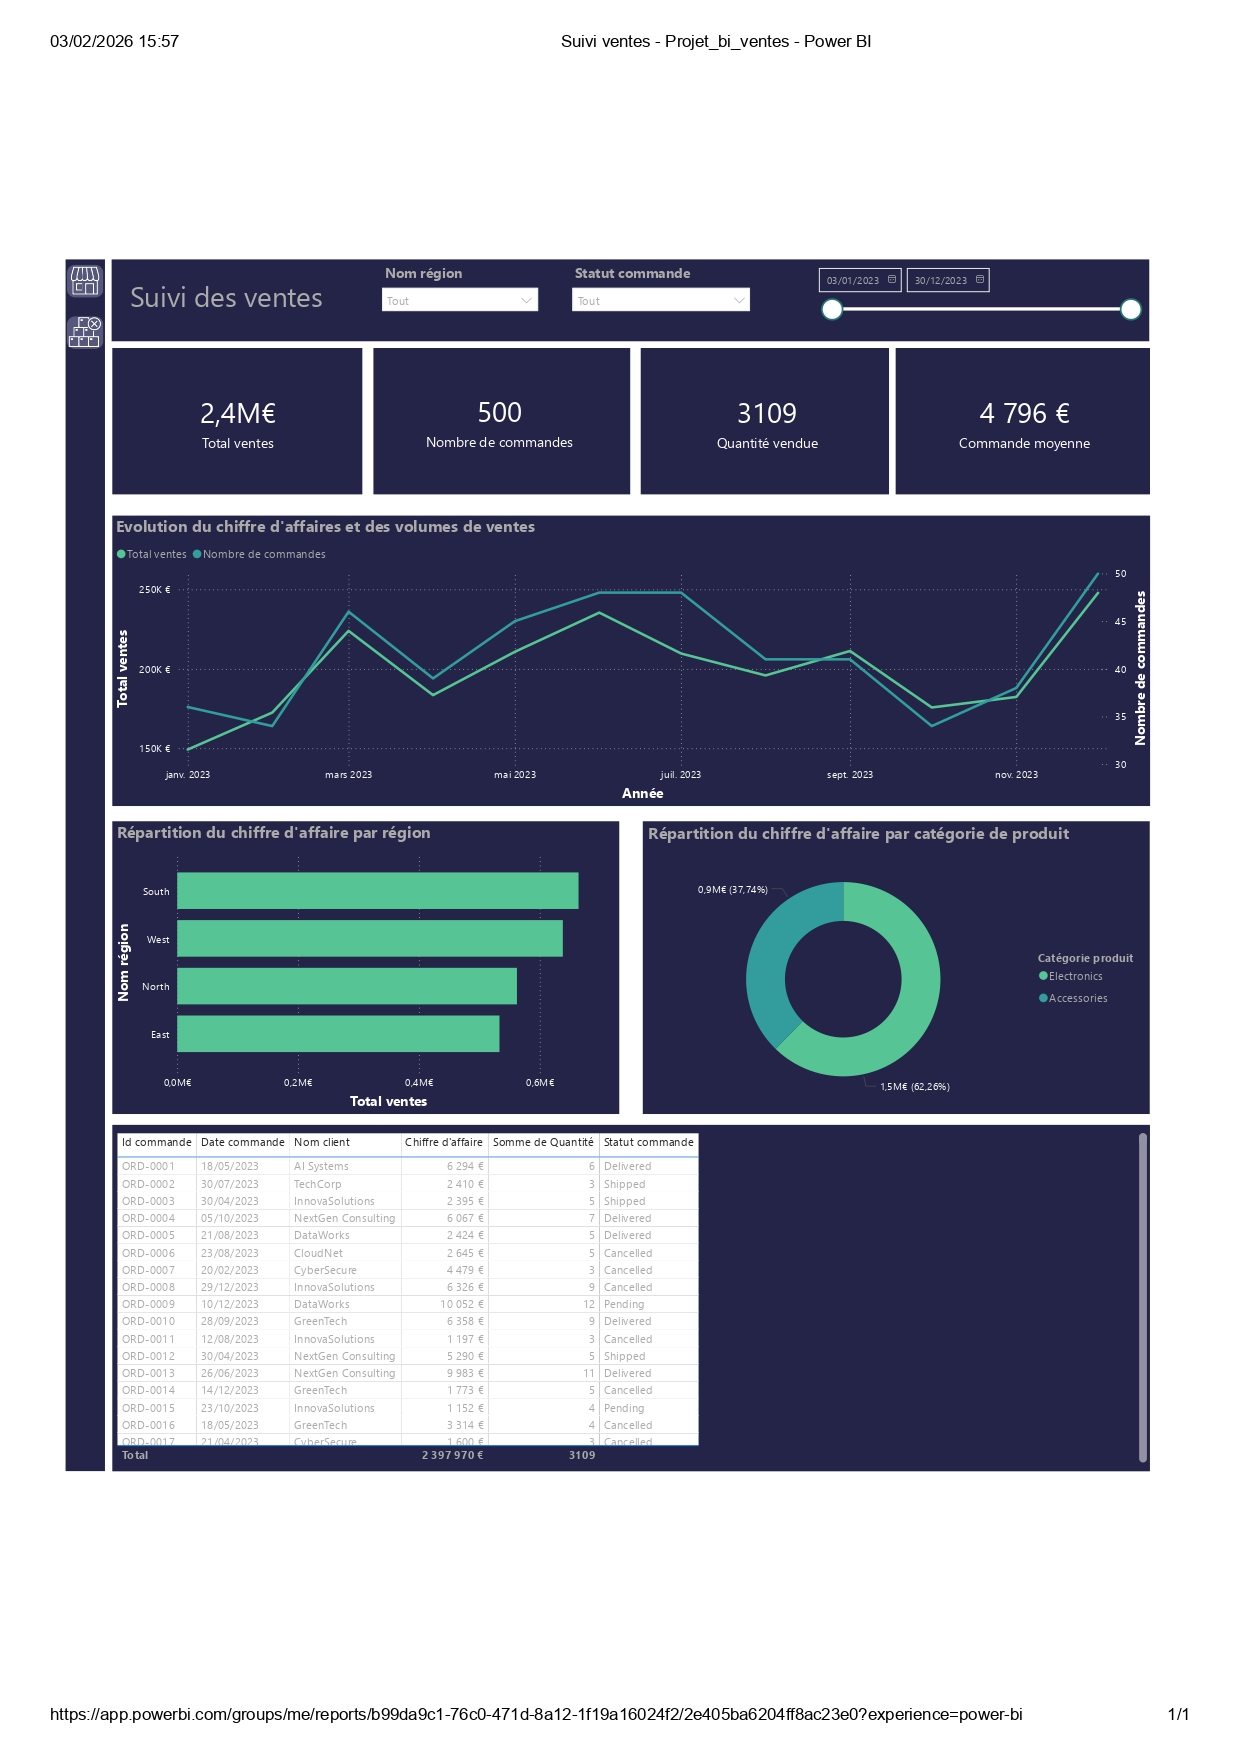

The dashboard page shown, as its layout file describes it:
{"tool":"powerbi","page":{"name":"Suivi ventes","canvas":[1280,1450],"ordinal":0},"visuals":[{"type":"shape","box":[7,7.9,45.7,1406.1],"z":0},{"type":"shape","box":[60.6,7.9,1203.5,95.3],"z":1000},{"type":"shape","box":[61.5,110.8,290.5,169.8],"z":2000},{"type":"shape","box":[674.5,110.8,288,169.8],"z":3000},{"type":"shape","box":[969.8,110.8,295.4,169.8],"z":4000},{"type":"shape","box":[364.3,110.8,297.8,169.8],"z":5000},{"type":"shape","box":[61.5,305.2,1203.7,337.2],"z":6000},{"type":"shape","box":[61.5,659.7,588.3,339.7],"z":7000},{"type":"shape","box":[61.6,1011.9,1203.5,402.2],"z":8000},{"type":"shape","box":[676.9,659.7,588.3,339.7],"z":9000},{"type":"textbox","box":[76.5,22.8,333.7,58.6],"z":10000},{"type":"card","fields":{"Values":["Clients.Total ventes"]},"box":[61.6,111.2,291,169.8],"z":11000},{"type":"card","fields":{"Values":["Ventes.Nombre de commandes"]},"box":[364.6,110.7,291.7,169.6],"z":12000},{"type":"card","fields":{"Values":["Ventes.Quantité vendue"]},"box":[674.7,111.6,291.7,169.6],"z":13000},{"type":"card","fields":{"Values":["Ventes.Commande moyenne"]},"box":[974.3,111.6,291.7,169.6],"z":14000},{"type":"lineChart","title":"Evolution du chiffre d''affaires et des volumes de ventes","fields":{"Category":["Ventes.Date commande.Variation.Hiérarchie de dates.Année","Ventes.Date commande.Variation.Hiérarchie de dates.Trimestre","Ventes.Date commande.Variation.Hiérarchie de dates.Mois","Ventes.Date commande.Variation.Hiérarchie de dates.Jour"],"Y":["Mesures.Total ventes"],"Y2":["Mesures.Nombre de commandes"]},"box":[60.6,304.9,1211.5,337.6],"z":15000},{"type":"barChart","title":"Répartition du chiffre d''affaire par région","fields":{"Category":["Régions.Nom région"],"Y":["Mesures.Total ventes"]},"box":[61.6,659.4,587.9,339.6],"z":16000},{"type":"donutChart","title":"Répartition du chiffre d''affaire par catégorie de produit","fields":{"Category":["Produits.Catégorie produit"],"Y":["Mesures.Total ventes"]},"box":[678.2,660.4,587.9,339.6],"z":17000},{"type":"slicer","fields":{"Values":["Régions.Nom région"]},"box":[364.4,7.9,200.6,59.6],"z":18000},{"type":"slicer","fields":{"Values":["Ventes.Statut commande"]},"box":[584.9,7.9,226.4,59.6],"z":19000},{"type":"slicer","fields":{"Values":["Ventes.Date commande"]},"box":[867.9,7.9,396.2,95.3],"z":20000},{"type":"tableEx","fields":{"Values":["Ventes.Id commande","Ventes.Date commande","Clients.Nom client","Sum(Ventes.Prix total)","Sum(Ventes.Quantité)","Ventes.Statut commande"]},"box":[61.6,1016.9,1204.5,392.2],"z":21000},{"type":"shape","box":[8.8,73.8,42.2,37.8],"z":24001},{"type":"shape","box":[8.8,14.1,42.2,37.8],"z":25501},{"type":"image","box":[7,2.6,44.8,61.5],"z":26001},{"type":"image","box":[6.1,67.6,44.8,50.1],"z":26501}]}

Visuals, with their boxes on the page's 1280x1450 design canvas (x1, y1, x2, y2). These are canvas units, not pixel positions in the 1240x1754 screenshot, which may show the page scaled, cropped or inside an application window:
shape: [7,8,53,1414]
shape: [61,8,1264,103]
shape: [62,111,352,281]
shape: [674,111,962,281]
shape: [970,111,1265,281]
shape: [364,111,662,281]
shape: [62,305,1265,642]
shape: [62,660,650,999]
shape: [62,1012,1265,1414]
shape: [677,660,1265,999]
textbox: [76,23,410,81]
card - Clients.Total ventes: [62,111,353,281]
card - Ventes.Nombre de commandes: [365,111,656,280]
card - Ventes.Quantité vendue: [675,112,966,281]
card - Ventes.Commande moyenne: [974,112,1266,281]
"Evolution du chiffre d''affaires et des volumes de ventes" lineChart: [61,305,1272,642]
"Répartition du chiffre d''affaire par région" barChart: [62,659,650,999]
"Répartition du chiffre d''affaire par catégorie de produit" donutChart: [678,660,1266,1000]
slicer - Régions.Nom région: [364,8,565,68]
slicer - Ventes.Statut commande: [585,8,811,68]
slicer - Ventes.Date commande: [868,8,1264,103]
tableEx - Ventes.Id commande x Ventes.Date commande: [62,1017,1266,1409]
shape: [9,74,51,112]
shape: [9,14,51,52]
image: [7,3,52,64]
image: [6,68,51,118]
